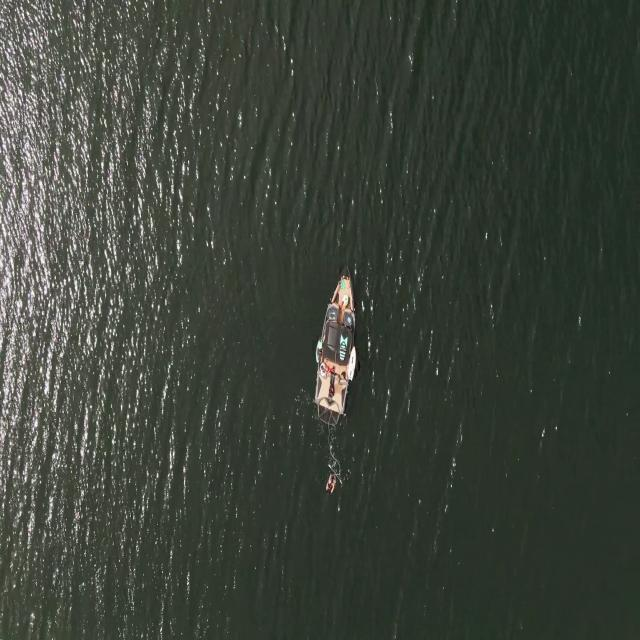ship: (312, 267, 358, 426), (349, 344, 356, 383)
